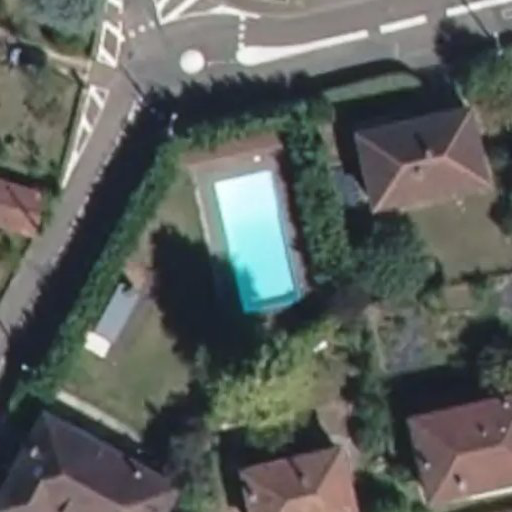pool: (212, 182, 299, 301)
